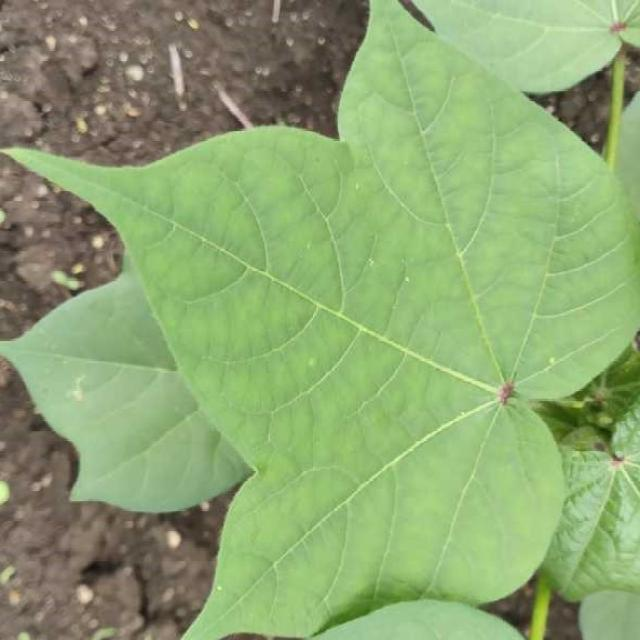Healthy Leaf: (127, 180, 615, 640)
